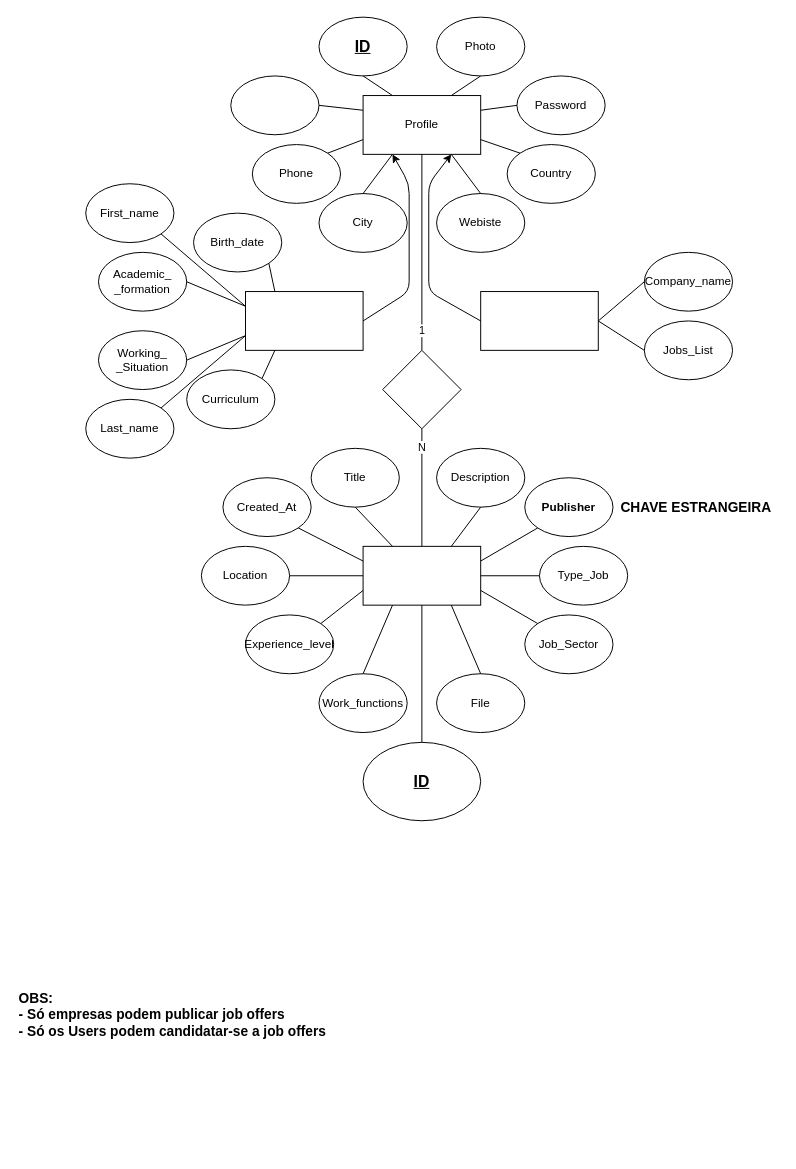
This 796x1169 diagram has some shape labels left out. Each missing label, with the centre of its shape:
"Email" belongs at (x=274, y=105).
"Emprego" belongs at (x=421, y=575).
"Empresa" belongs at (x=539, y=320).
"Tem" belongs at (x=421, y=389).
"User" belongs at (x=304, y=320).
